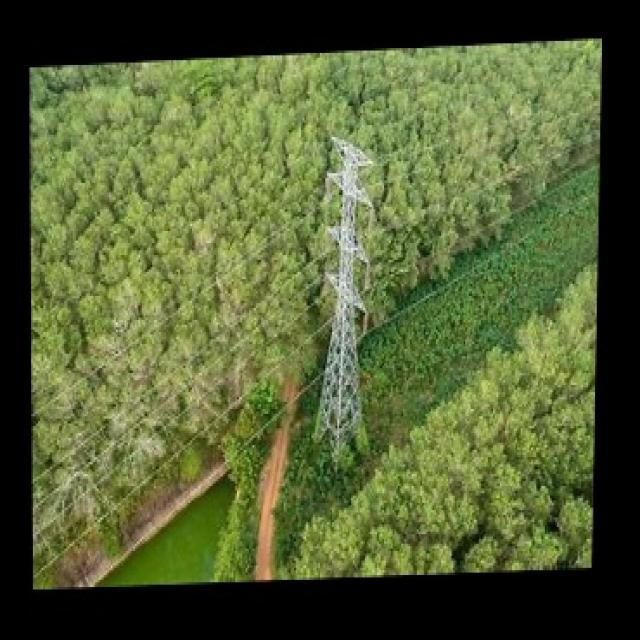utility poles: (312, 107, 393, 472)
